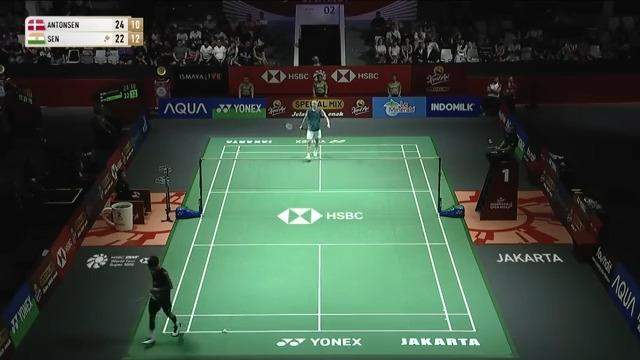Shuttlecock: (218, 324, 232, 338)
